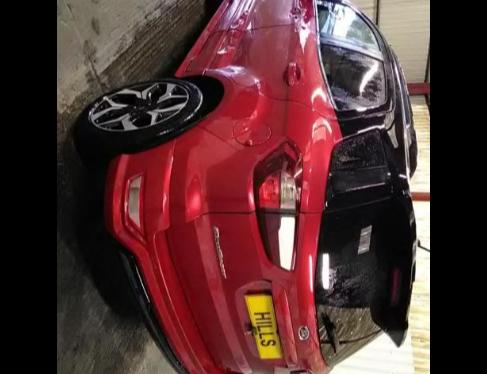Broken part: (290, 2, 306, 22)
Dent: (208, 2, 254, 70), (218, 12, 248, 53)
